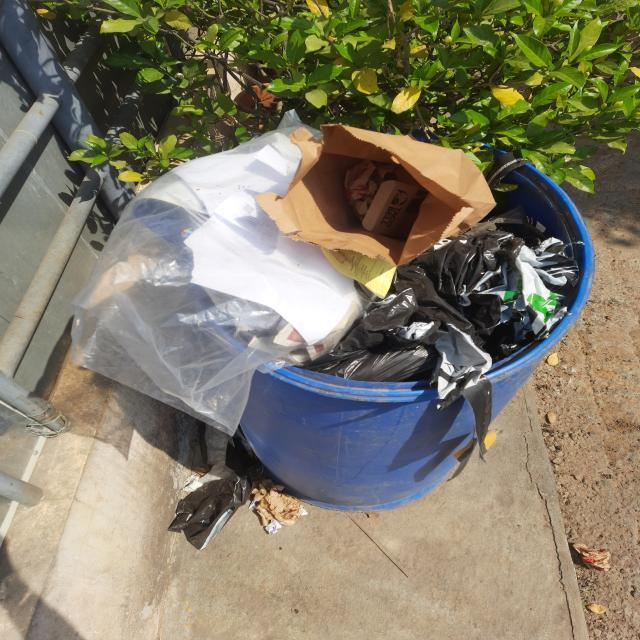Garbage: (73, 111, 580, 444)
Nylog_sting: (487, 152, 532, 190)
Plastic: (345, 160, 397, 220)
Plastic_Bag: (73, 111, 363, 434), (305, 210, 578, 469)
